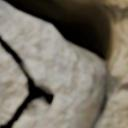brick: (0, 2, 103, 127), (0, 48, 26, 123)
crack: (0, 0, 125, 127), (0, 33, 56, 127)
